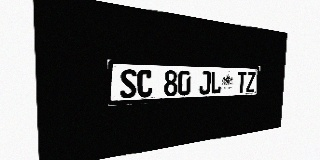0: (178, 70, 191, 96)
8: (164, 70, 178, 97)
C: (137, 69, 153, 98)
J: (199, 71, 211, 95)
L: (210, 71, 222, 94)
S: (120, 69, 137, 99)
T: (237, 71, 247, 93)
Z: (246, 72, 256, 93)
